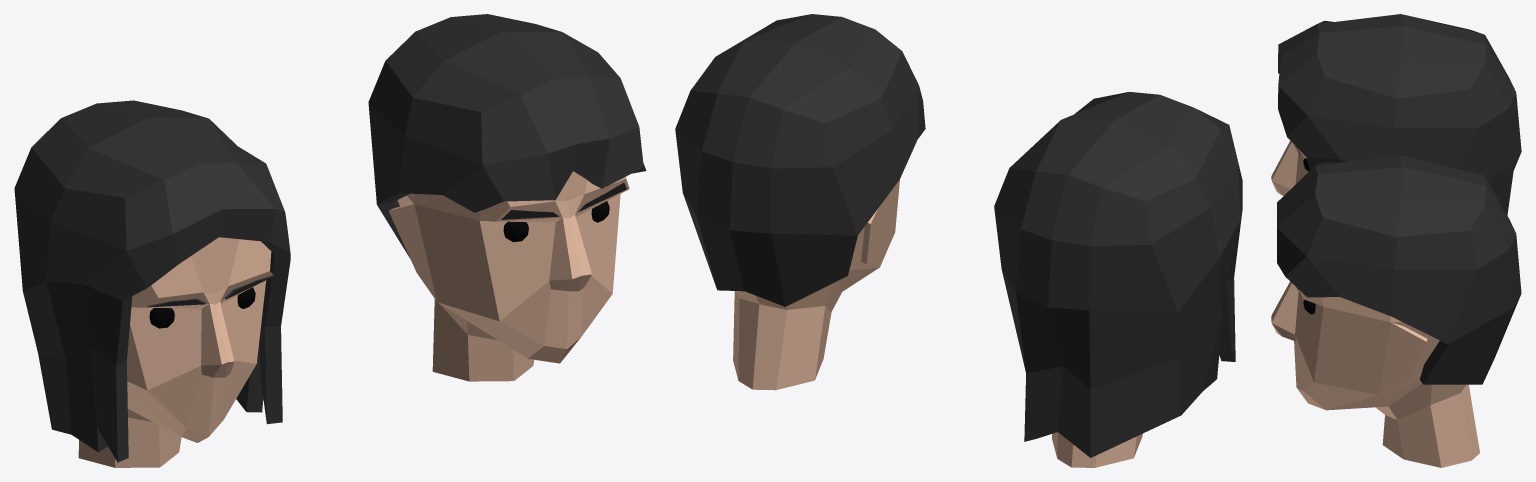
Rendered from heads.fbx.
3 renders of one model, left to right at view 1: azimuth 30°, elevation 25°; view 2: azimuth 150°, elevation 25°; view 3: azimuth 270°, elevation 25°, orthographic. The views are drawn at different scales.
Parts seen in each view (by area): view 1: Cube.003, Cube.001, Cube, Cube.002, Plane.003, Plane.001, Plane; view 2: Cube.003, Cube.001, Cube, Cube.002; view 3: Cube.001, Cube.003, Cube, Cube.002.
Part boxes in pixels (x1,y1,x2,y2): Cube.003: (14, 100, 290, 462); Cube.001: (368, 14, 646, 257); Cube: (388, 171, 629, 381); Cube.002: (78, 237, 273, 467); Plane.003: (149, 287, 255, 328); Plane.001: (503, 201, 609, 242); Plane: (501, 182, 626, 219); Cube.003: (994, 91, 1242, 457); Cube.001: (675, 14, 925, 306); Cube: (733, 179, 899, 390); Cube.002: (1052, 432, 1142, 467); Cube.001: (1277, 155, 1521, 384); Cube.003: (1278, 14, 1521, 215); Cube: (1271, 281, 1479, 467); Cube.002: (1271, 141, 1308, 195).
Size of the model in its own units: 485 by 284 by 225.
